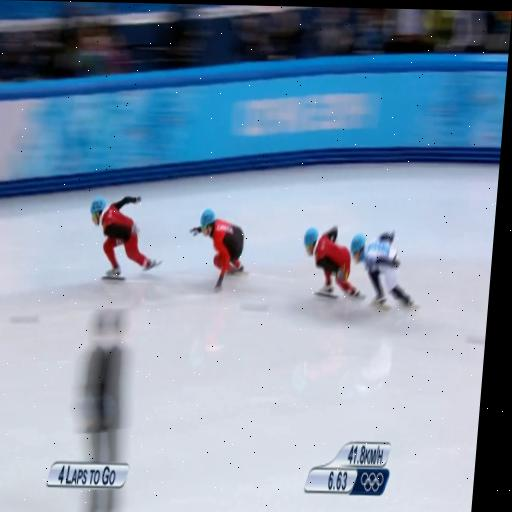Skater: (91, 197, 161, 279), (350, 232, 417, 308), (190, 209, 244, 292), (304, 227, 365, 300)
